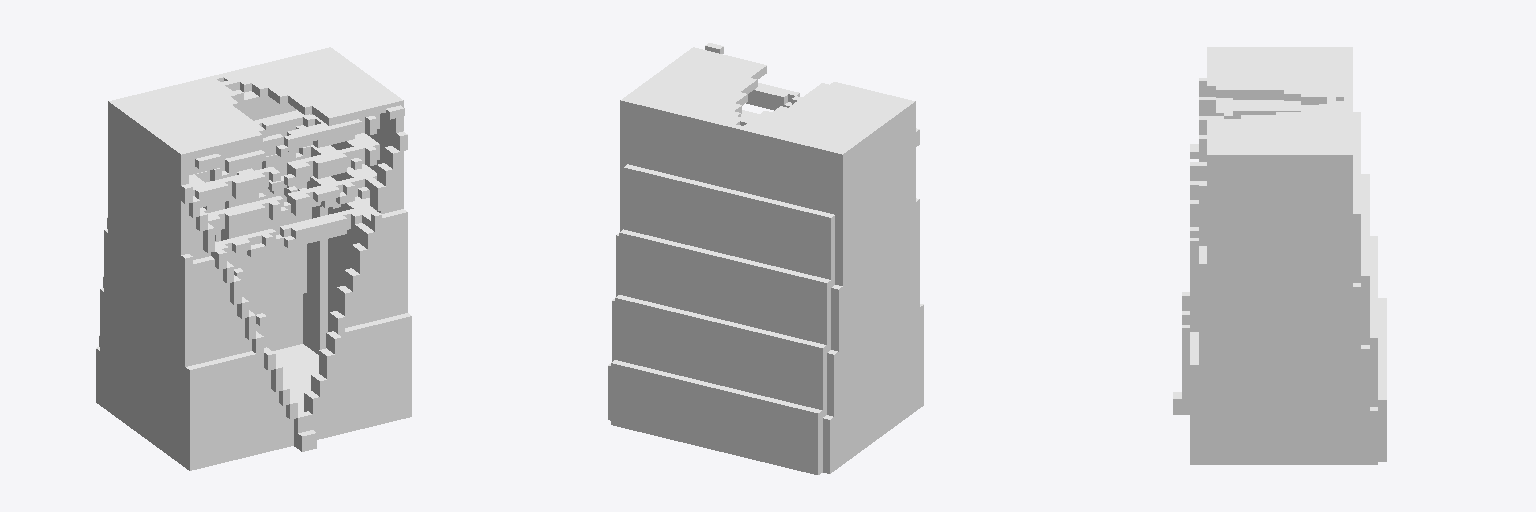
File: skelet-6.obj
The picture shows the model from 3 angles: view 1: azimuth 30°, elevation 25°; view 2: azimuth 150°, elevation 25°; view 3: azimuth 270°, elevation 25°; orthographic projection.
Parts seen in each view (by area): view 1: object 1; view 2: object 1; view 3: object 1.
Boxes of the visible parts, box(x1,y1,x2,y2) form: object 1: box(96, 47, 411, 470); object 1: box(608, 43, 923, 474); object 1: box(1173, 47, 1386, 464).
Size of the model in its own units: 3 by 4 by 2.5.